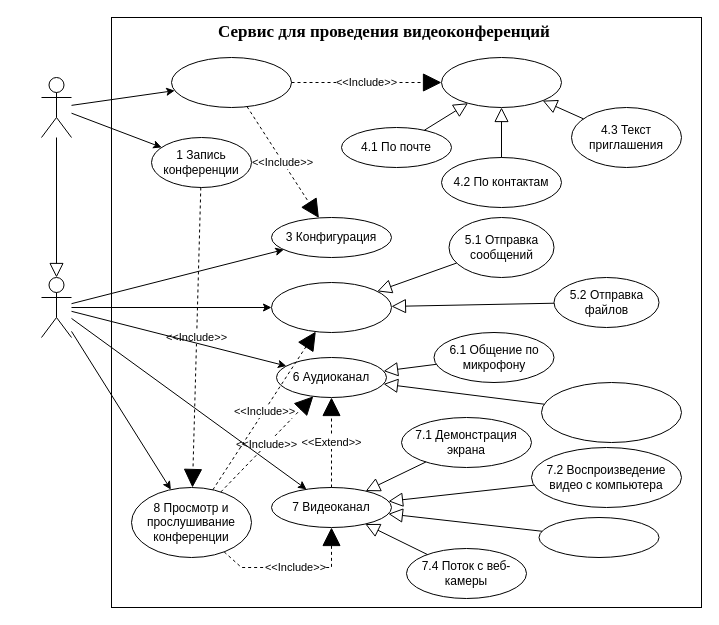
This 719x625 diagram has some shape labels left out. Each missing label, with the centre of its shape:
"2 Организация конференции" goes at pixel 231 82.
"4 Приглашения" goes at pixel 501 82.
"5 Текстовый канал" goes at pixel 331 307.
"6.2 Воспроизведение аудио с компьютера" goes at pixel 611 412.
"7.3 Презентации" goes at pixel 598 537.
"Организатор" goes at pixel 56 107.
"Пользователь" goes at pixel 56 307.
